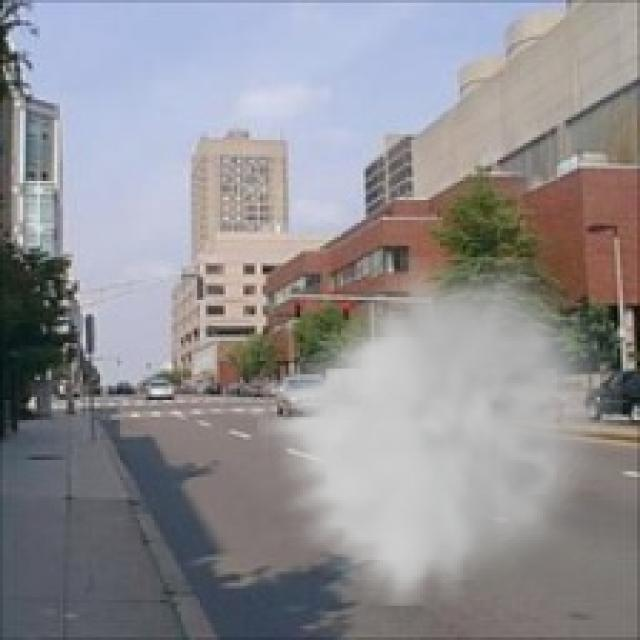Smoke: (257, 257, 623, 606)
